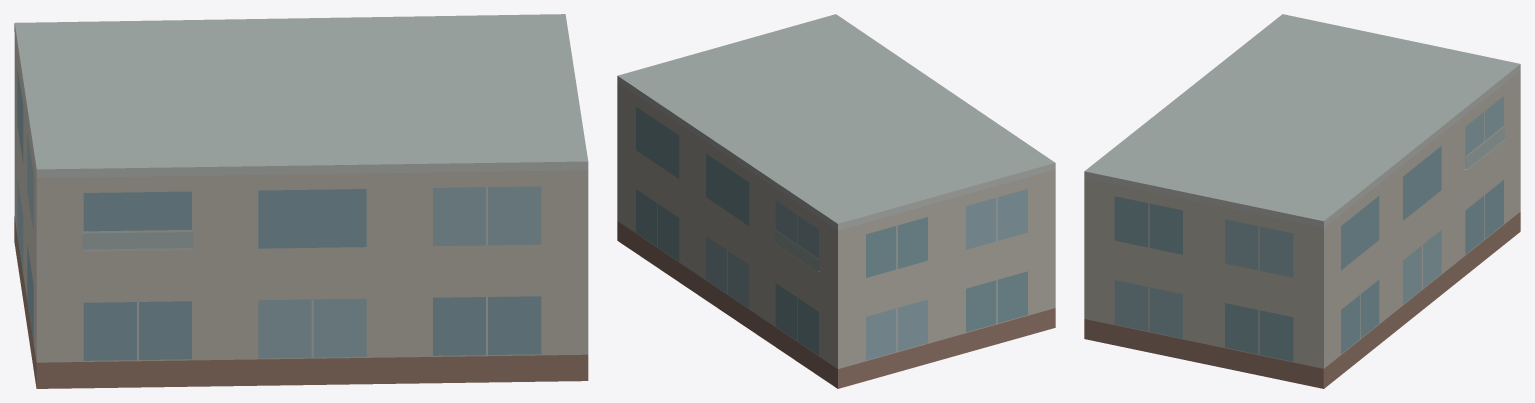
File: survey-upis-32958307.glb
The picture shows the model from 3 angles, left to right: view 1: azimuth 30°, elevation 25°; view 2: azimuth 150°, elevation 25°; view 3: azimuth 270°, elevation 25°; orthographic projection. The views are drawn at different scales.
Parts seen in each view (by area): view 1: survey-upis-32958307.tmp; view 2: survey-upis-32958307.tmp; view 3: survey-upis-32958307.tmp.
Part boxes in pixels (x1,y1,x2,y2): survey-upis-32958307.tmp: (14, 14, 588, 388); survey-upis-32958307.tmp: (617, 14, 1055, 388); survey-upis-32958307.tmp: (1084, 14, 1520, 388).
Size of the model in its own units: 16.18 by 6.1 by 14.4.
